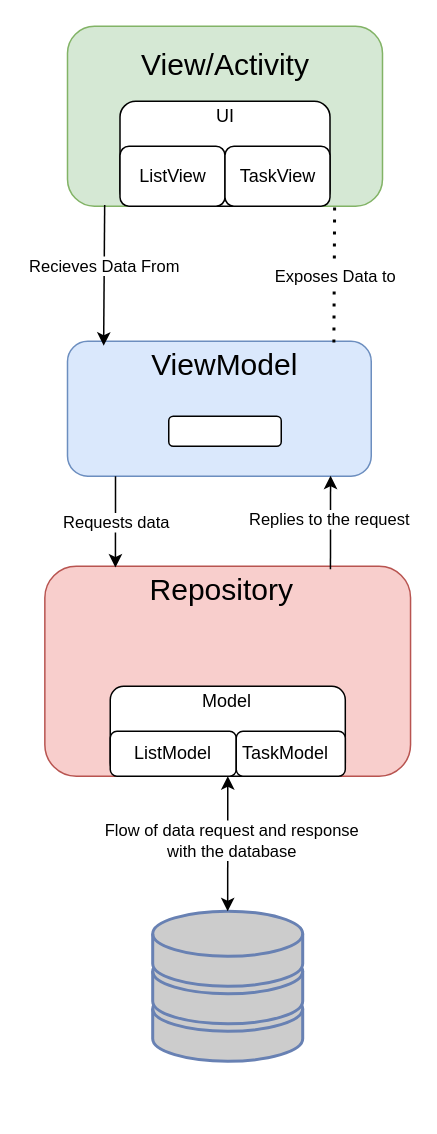
This 437x1134 diagram has some shape labels left out. The box of each missing label's shape, as (x1, y1, x2, y2) in pixels:
Data in view: (167, 415, 281, 446)
SQLite: (150, 909, 303, 1062)
